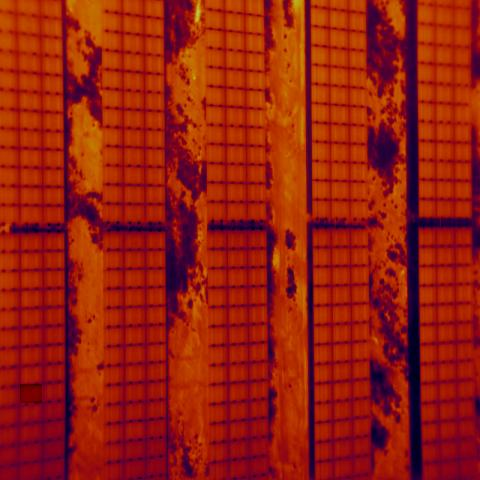fault: (20, 384, 42, 403)
